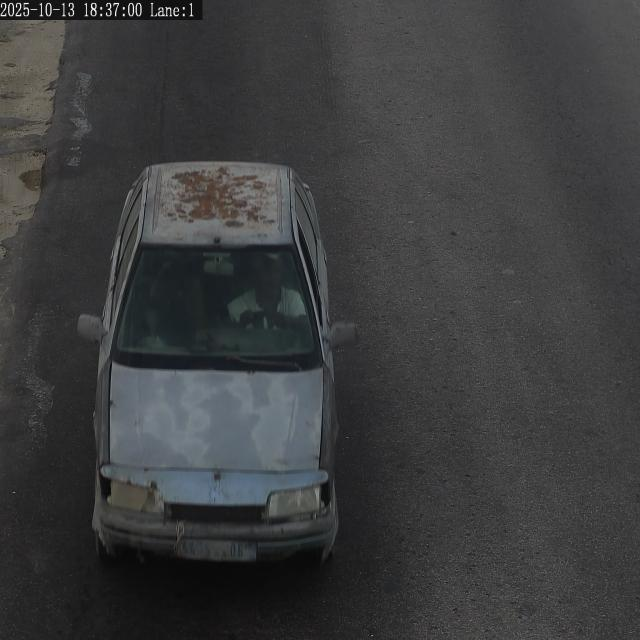BUS: (180, 540, 257, 562)
